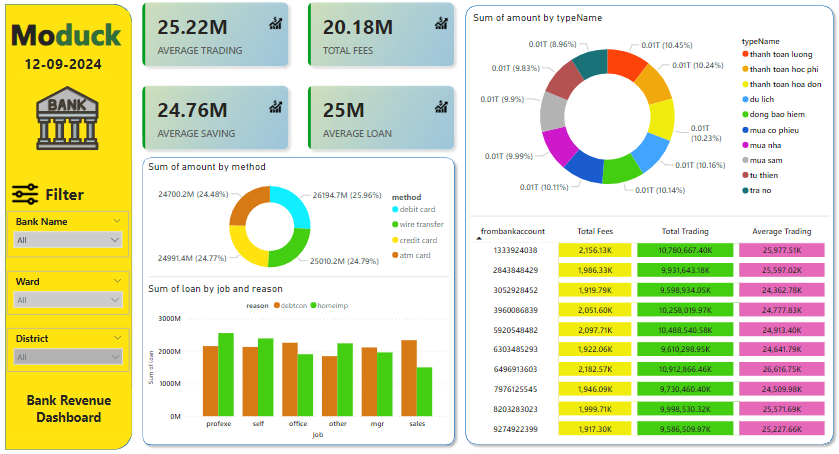

Layout of this report page (visuals, bound fields, positions):
{"tool":"powerbi","page":{"name":"Page 1","canvas":[1400,800],"ordinal":0},"visuals":[{"type":"shape","box":[10,32.2,212.2,743.3],"z":0},{"type":"textbox","box":[13.1,43.8,204.4,75],"z":1000},{"type":"textbox","box":[30.6,107.5,157.5,46.2],"z":2000},{"type":"cardVisual","fields":{"Data":["public moneytransaction.Total Trading","public moneytransaction.Total Fees","public savingdeposit.Total Saving","public loan.Total Loan"]},"box":[221.7,11.7,555,280],"z":3000},{"type":"shape","box":[230,277.7,538.5,497.7],"z":4000},{"type":"donutChart","fields":{"Y":["Sum(public moneytransaction.amount)"],"Category":["public moneytransaction.method"]},"box":[243.1,292.3,512.3,203.1],"z":5000},{"type":"clusteredColumnChart","fields":{"Category":["public loan.job"],"Y":["Sum(public loan.loan)"],"Series":["public loan.reason"]},"box":[243.3,495,511.7,266.7],"z":6000},{"type":"shape","box":[249.4,476.5,500,18.8],"z":7000},{"type":"shape","box":[768.3,25,631.7,750],"z":8000},{"type":"clusteredBarChart","fields":{"Category":["public moneytransaction.typeName"],"Y":["public moneytransaction.Total Trading"]},"box":[786,296,600,466],"z":9000},{"type":"shape","box":[784.2,278.3,600,16.7],"z":10000},{"type":"image","box":[45,151.7,138.3,140],"z":11000},{"type":"textbox","box":[11.4,671.4,208.6,81.4],"z":12000},{"type":"slicer","fields":{"Values":["public bank.aliasname"]},"box":[13.3,376.7,203.3,76.7],"z":13000},{"type":"image","box":[15,320,56.7,56.7],"z":14000},{"type":"textbox","box":[71.7,325,135,46.7],"z":15000},{"type":"slicer","fields":{"Values":["public profileuser.ward"]},"box":[13.1,476.9,203.8,73.1],"z":16000},{"type":"slicer","fields":{"Values":["public profileuser.district"]},"box":[13.3,571.1,204.4,73.3],"z":17000},{"type":"lineChart","fields":{"Y":["Sum(public savingdeposit.money)"],"Category":["public savingdeposit.expire.Variation.Date Hierarchy.Year","public savingdeposit.expire.Variation.Date Hierarchy.Quarter"]},"box":[785,48.3,600,230],"z":18000}]}

Visuals, with their boxes on the page's 1400x800 design canvas (x1, y1, x2, y2). These are canvas units, not pixel positions in the 839x454 screenshot, which may show the page scaled, cropped or inside an application window:
shape: 10/32/222/776
textbox: 13/44/218/119
textbox: 31/108/188/154
cardVisual - public moneytransaction.Total Trading x public moneytransaction.Total Fees: 222/12/777/292
shape: 230/278/768/775
donutChart - Sum(public moneytransaction.amount) x public moneytransaction.method: 243/292/755/495
clusteredColumnChart - public loan.job x Sum(public loan.loan): 243/495/755/762
shape: 249/476/749/495
shape: 768/25/1400/775
clusteredBarChart - public moneytransaction.typeName x public moneytransaction.Total Trading: 786/296/1386/762
shape: 784/278/1384/295
image: 45/152/183/292
textbox: 11/671/220/753
slicer - public bank.aliasname: 13/377/217/453
image: 15/320/72/377
textbox: 72/325/207/372
slicer - public profileuser.ward: 13/477/217/550
slicer - public profileuser.district: 13/571/218/644
lineChart - Sum(public savingdeposit.money) x public savingdeposit.expire.Variation.Date Hierarchy.Year: 785/48/1385/278
